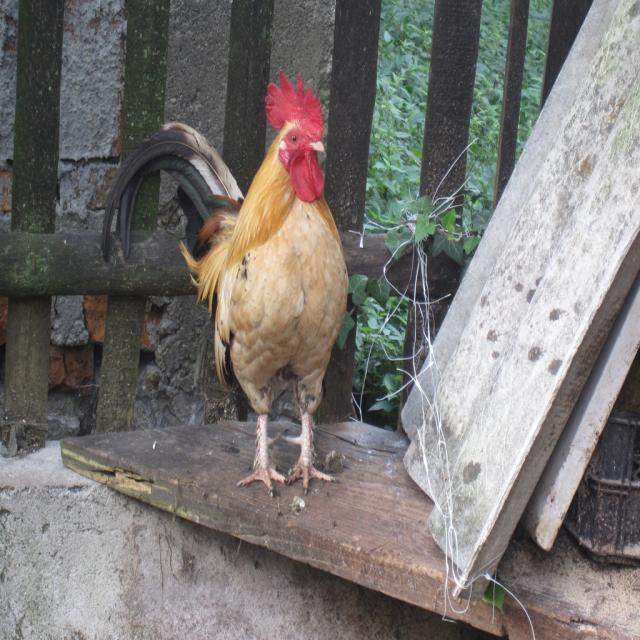Chicken: (96, 57, 344, 494)
